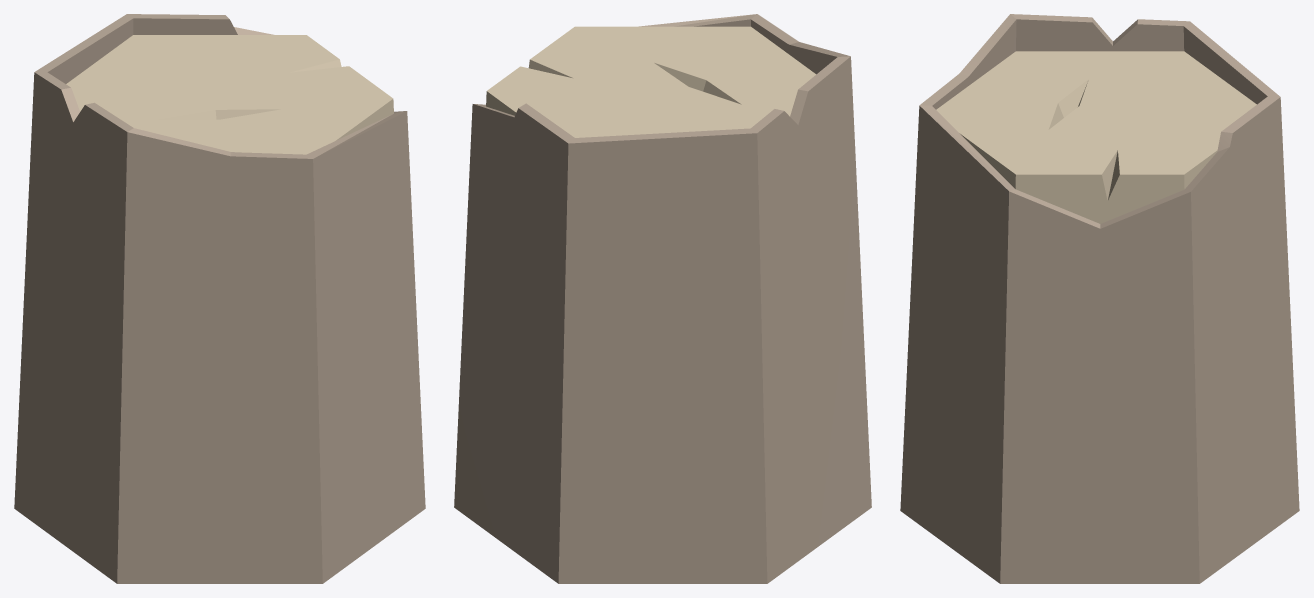
The model's file is Hilly_Prop_Stump.glb.
3 renders of one model, left to right at view 1: azimuth 30°, elevation 25°; view 2: azimuth 150°, elevation 25°; view 3: azimuth 270°, elevation 25°, orthographic. The views are drawn at different scales.
Parts seen in each view (by area): view 1: Hilly_Prop_Stump; view 2: Hilly_Prop_Stump; view 3: Hilly_Prop_Stump.
Part boxes in pixels (x1,y1,x2,y2): Hilly_Prop_Stump: (14, 14, 425, 583); Hilly_Prop_Stump: (454, 14, 871, 583); Hilly_Prop_Stump: (900, 14, 1299, 583).
Bounding box in the file's own units: 0.1455 × 0.2002 × 0.168.
